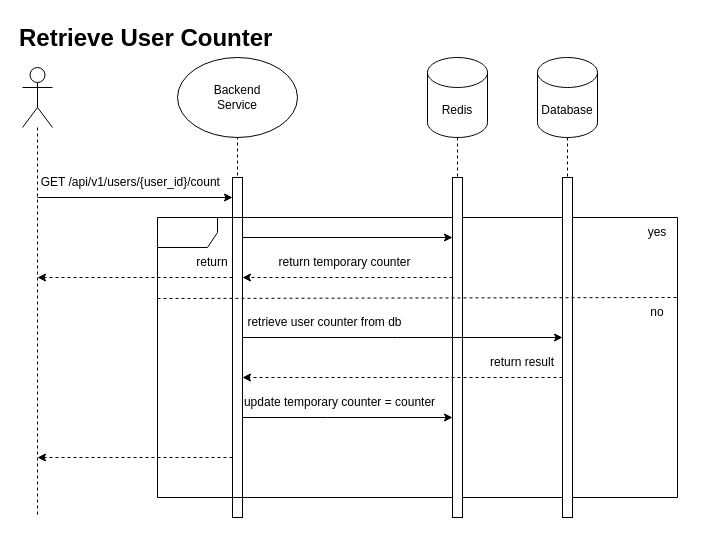
Some shapes in this 704 by 536 pixel diagram are drawn without their labels. Each missing label, with the box of its shape:
key exists in cache: (156, 216, 678, 498)
User: (22, 66, 52, 128)
